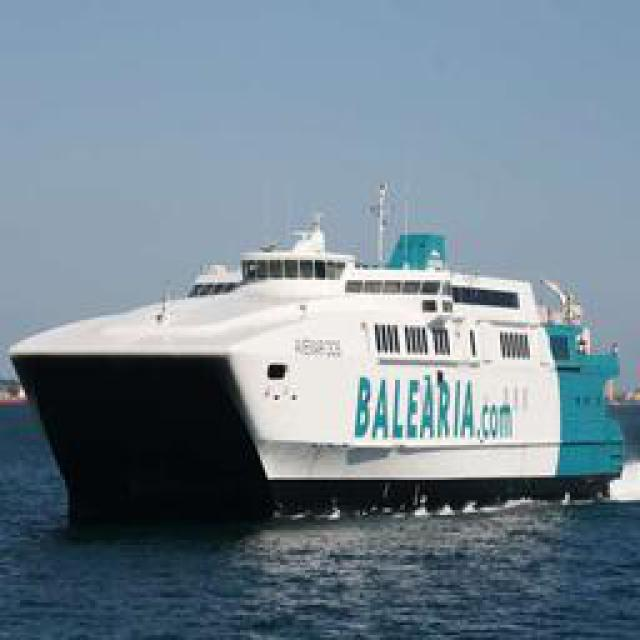Ship: (19, 202, 624, 522)
